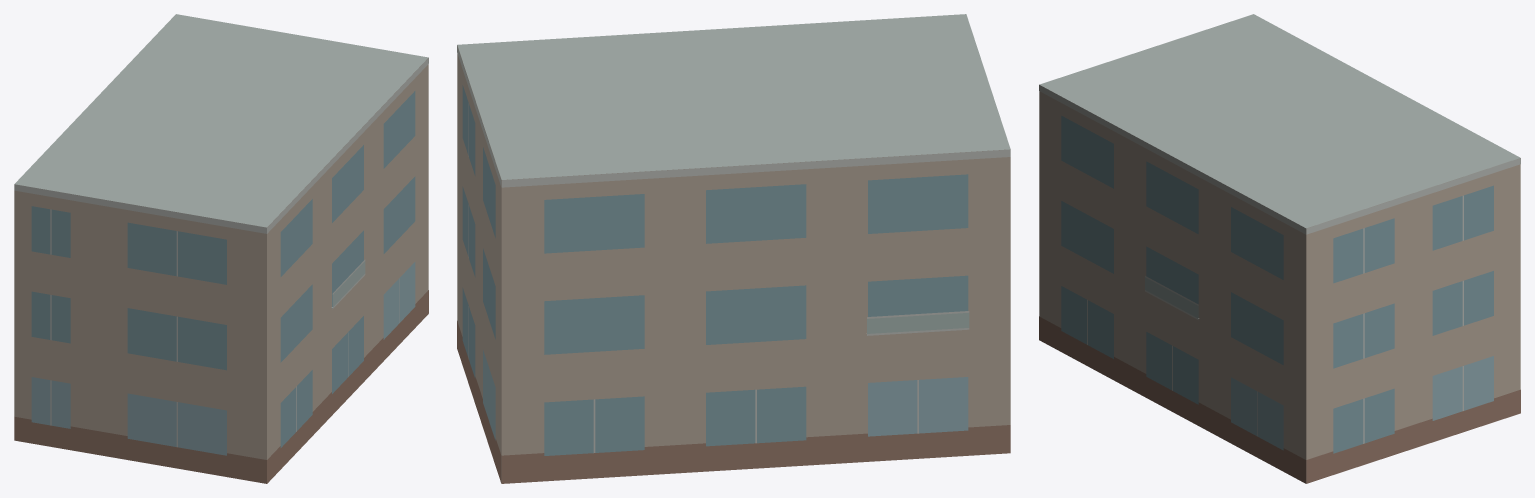
Rendered from survey-upis-32833624.glb.
3 renders of one model, left to right at view 1: azimuth 30°, elevation 25°; view 2: azimuth 150°, elevation 25°; view 3: azimuth 270°, elevation 25°, orthographic. The views are drawn at different scales.
Parts seen in each view (by area): view 1: survey-upis-32833624.tmp; view 2: survey-upis-32833624.tmp; view 3: survey-upis-32833624.tmp.
Part boxes in pixels (box(x1,y1,x2,y2)): survey-upis-32833624.tmp: box(14, 14, 428, 483); survey-upis-32833624.tmp: box(457, 14, 1010, 483); survey-upis-32833624.tmp: box(1039, 14, 1520, 483).
Bounding box in the file's own units: 17.64 × 9.8 × 16.75.
